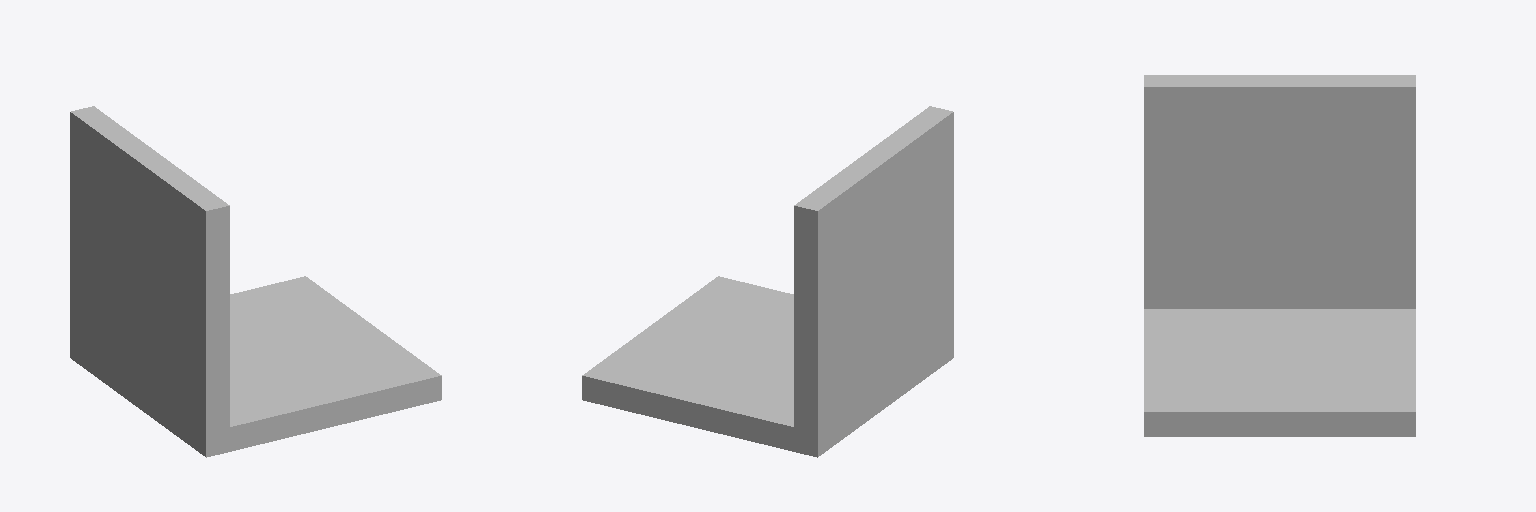
Rendered from terrain_models.obj.
3 views of the same model, side by side, from view 1: azimuth 30°, elevation 25°; view 2: azimuth 150°, elevation 25°; view 3: azimuth 270°, elevation 25° (orthographic).
Size of the model in its own units: 1 by 1 by 1.